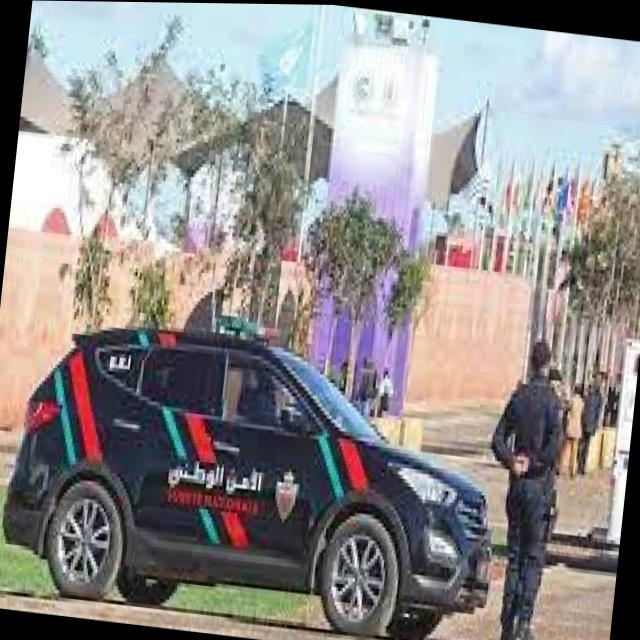Police car: (0, 275, 523, 640)
